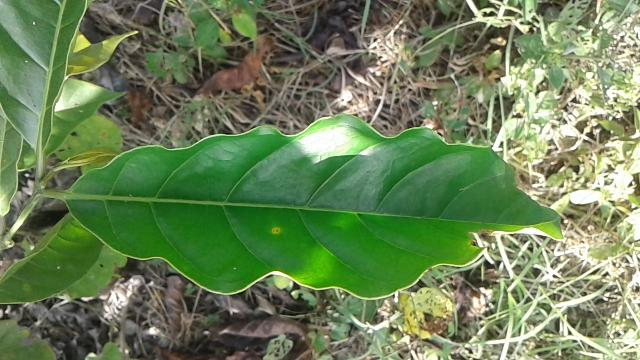rust_level_1: (61, 114, 562, 304)
